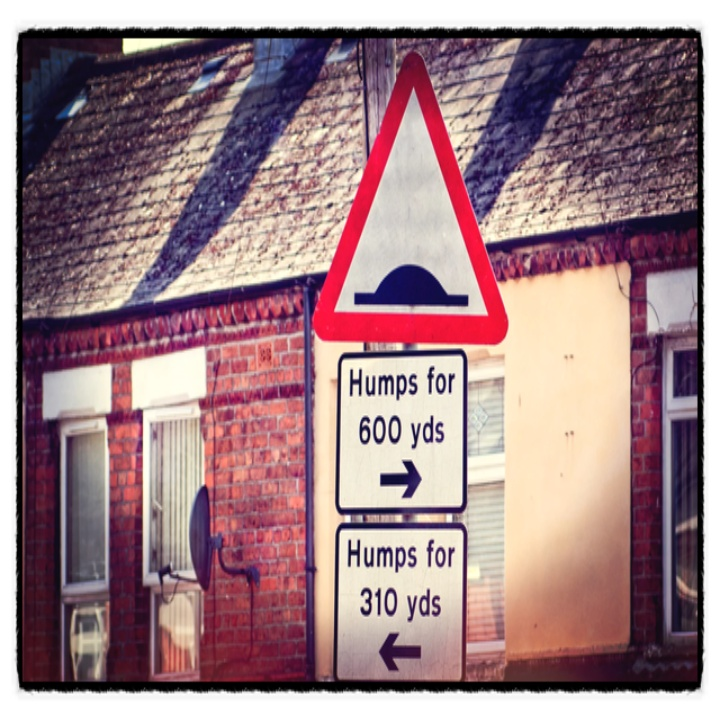bump: (345, 251, 479, 329)
